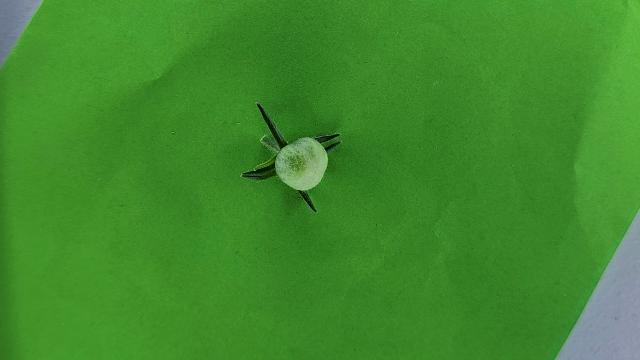Fruit Maturation: (273, 137, 329, 192)
